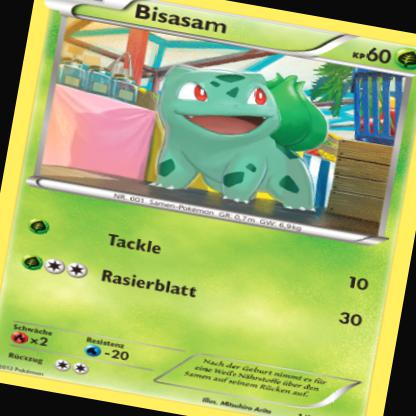Bulbasaur: (138, 51, 343, 219)
